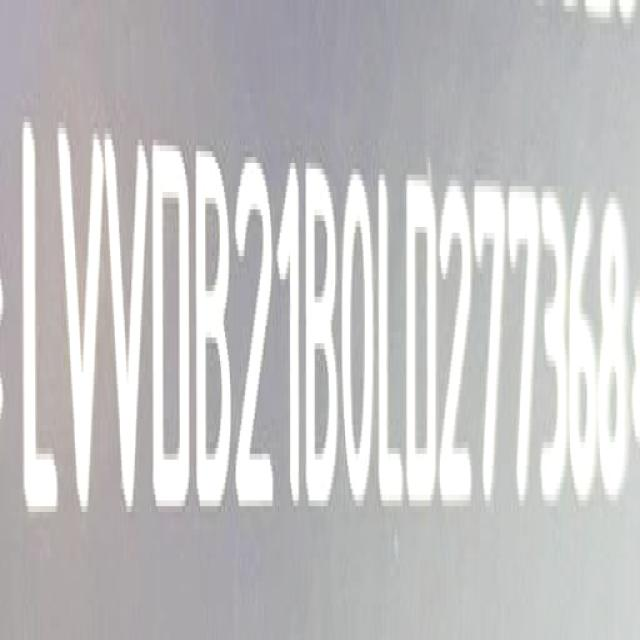0: (342, 170, 378, 518)
1: (278, 155, 300, 524)
2: (237, 154, 277, 524), (441, 175, 477, 522)
3: (540, 186, 570, 514)
6: (570, 193, 598, 513)
7: (474, 174, 508, 508), (512, 178, 542, 520)
8: (598, 193, 630, 512)
B: (197, 142, 237, 524), (304, 164, 340, 518)
D: (152, 133, 194, 522), (406, 171, 440, 521)
L: (19, 116, 59, 531), (375, 162, 406, 515)
V: (58, 121, 107, 524), (108, 126, 154, 523)
